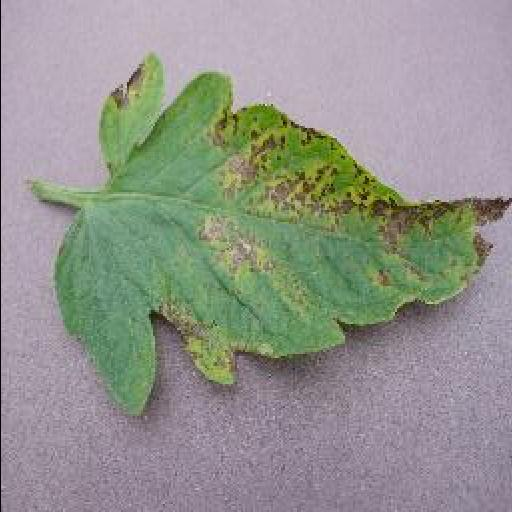disease_tomato: (52, 60, 512, 426)
